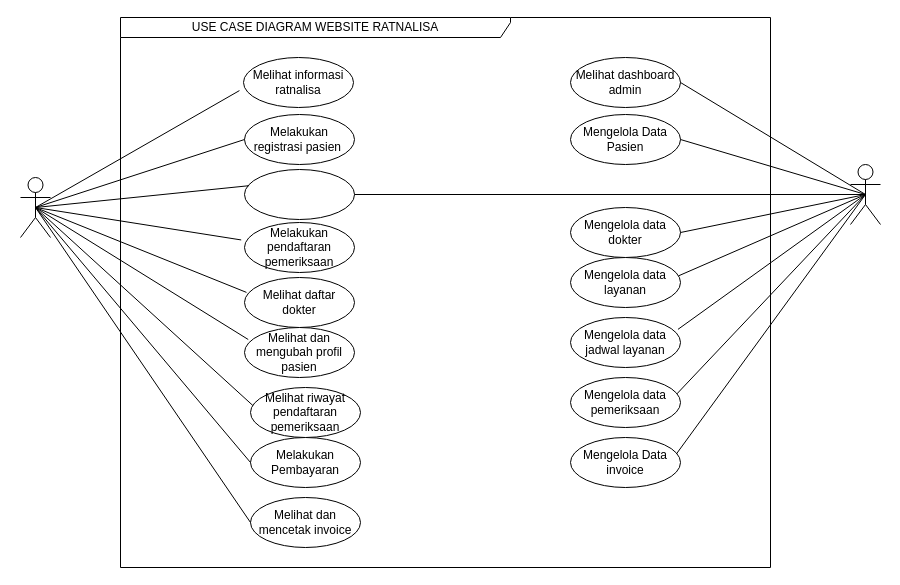
This 900x585 diagram has some shape labels left out. Here are the shapes that lost their labels. From the top down, the box of each, then its label:
(20, 176, 50, 238): Pasien
(244, 168, 354, 220): Melakukan login
(850, 164, 880, 224): Admin
